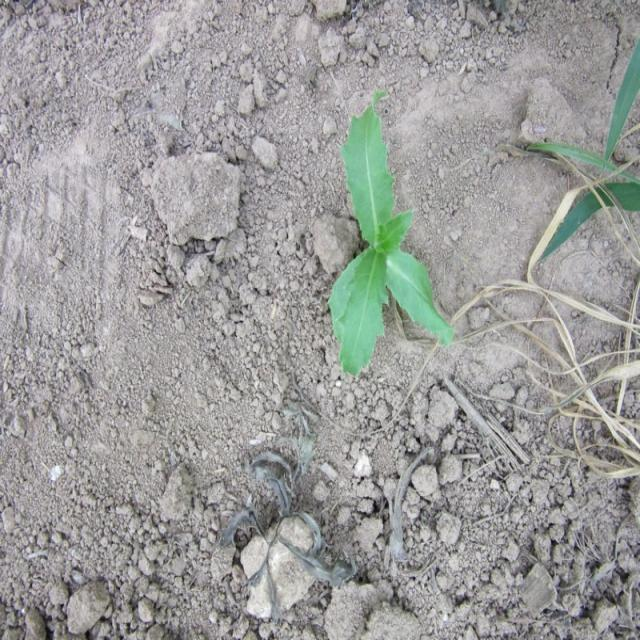field_thistle: (294, 112, 462, 373)
